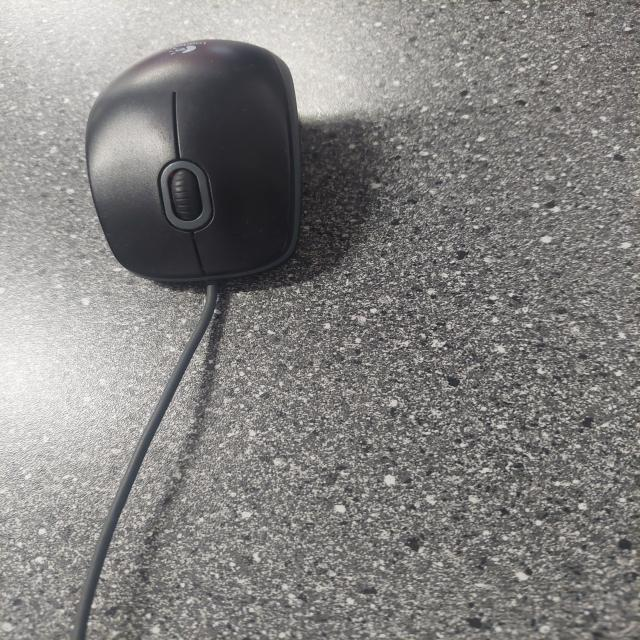mysz: (70, 27, 313, 305)
